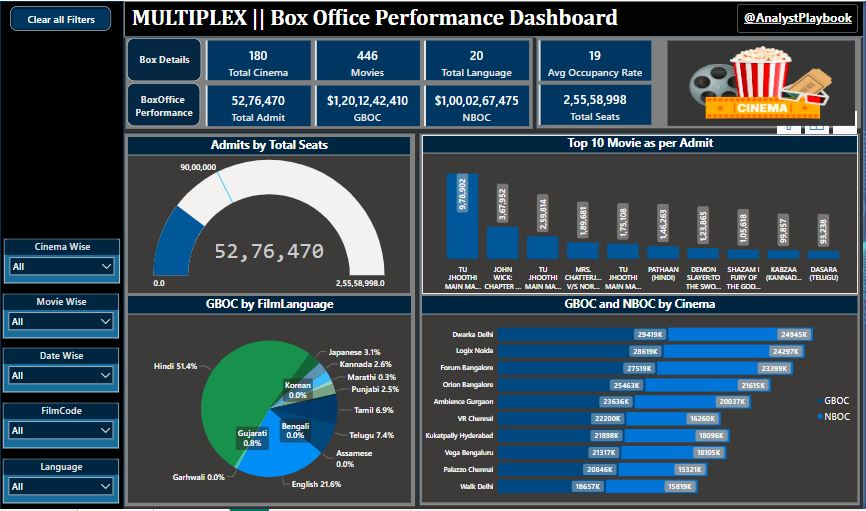

Layout of this report page (visuals, bound fields, positions):
{"tool":"powerbi","page":{"name":"Page 1","canvas":[1700,1000],"ordinal":0},"visuals":[{"type":"shape","box":[1054.8,71.7,640,180.2],"z":0},{"type":"shape","box":[825.4,260.1,868.4,733.3],"z":1000},{"type":"shape","box":[0,0,243.7,1000.6],"z":2000},{"type":"textbox","box":[244.1,0,1456.7,70.9],"z":3000},{"type":"slicer","title":"Date Wise","fields":{"Values":["Sheet1.Showdate"]},"box":[5.9,683.1,228.3,86.6],"z":4000},{"type":"shape","box":[246.1,70.9,803.1,181.1],"z":5000},{"type":"cardVisual","fields":{"Data":["Measures (2).m_Total_Cinemas","Measures (2).m_Total_Movie","Measures (2).m_Total_Languages"]},"box":[400,72,649.6,88.6],"z":6000},{"type":"cardVisual","fields":{"Data":["Measures (2).m_Total_Admits","Measures (2).m_Total_GBOC","Measures (2).m_Total_NBOC"]},"box":[400,161,649.6,90.6],"z":7000},{"type":"card","fields":{"Values":["Measures (2).Box Details"]},"box":[250,72.8,145.7,84.6],"z":8000},{"type":"card","fields":{"Values":["Measures (2).BoxOffice Performance"]},"box":[250,161.4,143.7,84.6],"z":9000},{"type":"slicer","title":"Language","fields":{"Values":["Sheet1.FilmLanguage"]},"box":[5.9,901.6,228.3,86.6],"z":10000},{"type":"slicer","title":"Movie Wise","fields":{"Values":["Sheet1.FIlmName"]},"box":[5.9,576.8,228.3,86.6],"z":11000},{"type":"slicer","title":"FilmCode","fields":{"Values":["Sheet1.Movie_Vista_hocode"]},"box":[5.9,791.3,228.3,88.6],"z":12000},{"type":"shape","box":[244.1,259.8,573,735],"z":13000},{"type":"columnChart","title":"Top 10 Movie as per Admit","fields":{"Category":["Sheet1.FIlmName"],"Y":["Sum(Sheet1.Admits)"]},"box":[830,263,859,313],"z":14000},{"type":"gauge","title":"Admits by Total Seats","fields":{"MaxValue":["Measures (2).Sum_of_Total_Seats"],"Y":["Measures (2).m_Total_Admits"]},"box":[252,267.7,555.1,307.1],"z":15000},{"type":"pieChart","title":"GBOC by FilmLanguage","fields":{"Y":["Sum(Sheet1.GBOC)"],"Category":["Sheet1.FilmLanguage"]},"box":[252,580.7,557.1,407.5],"z":16000},{"type":"slicer","title":"Cinema Wise","fields":{"Values":["Sheet1.Cinema_Name"]},"box":[7.9,468.5,228.3,86.6],"z":17000},{"type":"cardVisual","fields":{"Data":["Avg(Sheet1.Occupancy_Rate)","Measures (2).Sum_of_Total_Seats"]},"box":[1056,73,232,176],"z":18000},{"type":"image","box":[1308.8,73.7,378.9,178.2],"z":19000},{"type":"textbox","box":[1450.1,6.1,237.6,57.3],"z":20000},{"type":"barChart","title":"GBOC and NBOC by Cinema","fields":{"Category":["Sheet1.Cinema_Name"],"Y":["Sum(Sheet1.GBOC)","Sum(Sheet1.NBOC)"]},"box":[830.7,582.7,858.3,405.5],"z":21000},{"type":"actionButton","box":[19.7,9.8,198.8,49.2],"z":22000}]}

Visuals, with their boxes in screenshot pixels (x1, y1, x2, y2), scaled from the page's 1700x1000 canvas onto the 866x511 screenshot:
shape: {"x1": 537, "y1": 37, "x2": 863, "y2": 129}
shape: {"x1": 420, "y1": 133, "x2": 863, "y2": 508}
shape: {"x1": 0, "y1": 0, "x2": 124, "y2": 510}
textbox: {"x1": 124, "y1": 0, "x2": 865, "y2": 36}
"Date Wise" slicer: {"x1": 3, "y1": 349, "x2": 119, "y2": 393}
shape: {"x1": 125, "y1": 36, "x2": 534, "y2": 129}
cardVisual - Measures (2).m_Total_Cinemas x Measures (2).m_Total_Movie: {"x1": 204, "y1": 37, "x2": 535, "y2": 82}
cardVisual - Measures (2).m_Total_Admits x Measures (2).m_Total_GBOC: {"x1": 204, "y1": 82, "x2": 535, "y2": 129}
card - Measures (2).Box Details: {"x1": 127, "y1": 37, "x2": 202, "y2": 80}
card - Measures (2).BoxOffice Performance: {"x1": 127, "y1": 82, "x2": 201, "y2": 126}
"Language" slicer: {"x1": 3, "y1": 461, "x2": 119, "y2": 505}
"Movie Wise" slicer: {"x1": 3, "y1": 295, "x2": 119, "y2": 339}
"FilmCode" slicer: {"x1": 3, "y1": 404, "x2": 119, "y2": 450}
shape: {"x1": 124, "y1": 133, "x2": 416, "y2": 508}
"Top 10 Movie as per Admit" columnChart: {"x1": 423, "y1": 134, "x2": 860, "y2": 294}
"Admits by Total Seats" gauge: {"x1": 128, "y1": 137, "x2": 411, "y2": 294}
"GBOC by FilmLanguage" pieChart: {"x1": 128, "y1": 297, "x2": 412, "y2": 505}
"Cinema Wise" slicer: {"x1": 4, "y1": 239, "x2": 120, "y2": 284}
cardVisual - Avg(Sheet1.Occupancy_Rate) x Measures (2).Sum_of_Total_Seats: {"x1": 538, "y1": 37, "x2": 656, "y2": 127}
image: {"x1": 667, "y1": 38, "x2": 860, "y2": 129}
textbox: {"x1": 739, "y1": 3, "x2": 860, "y2": 32}
"GBOC and NBOC by Cinema" barChart: {"x1": 423, "y1": 298, "x2": 860, "y2": 505}
actionButton: {"x1": 10, "y1": 5, "x2": 111, "y2": 30}
